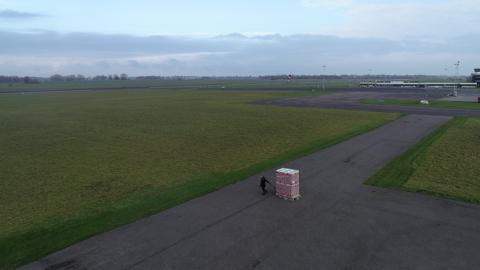RockwoolPallet: (274, 166, 301, 199)
